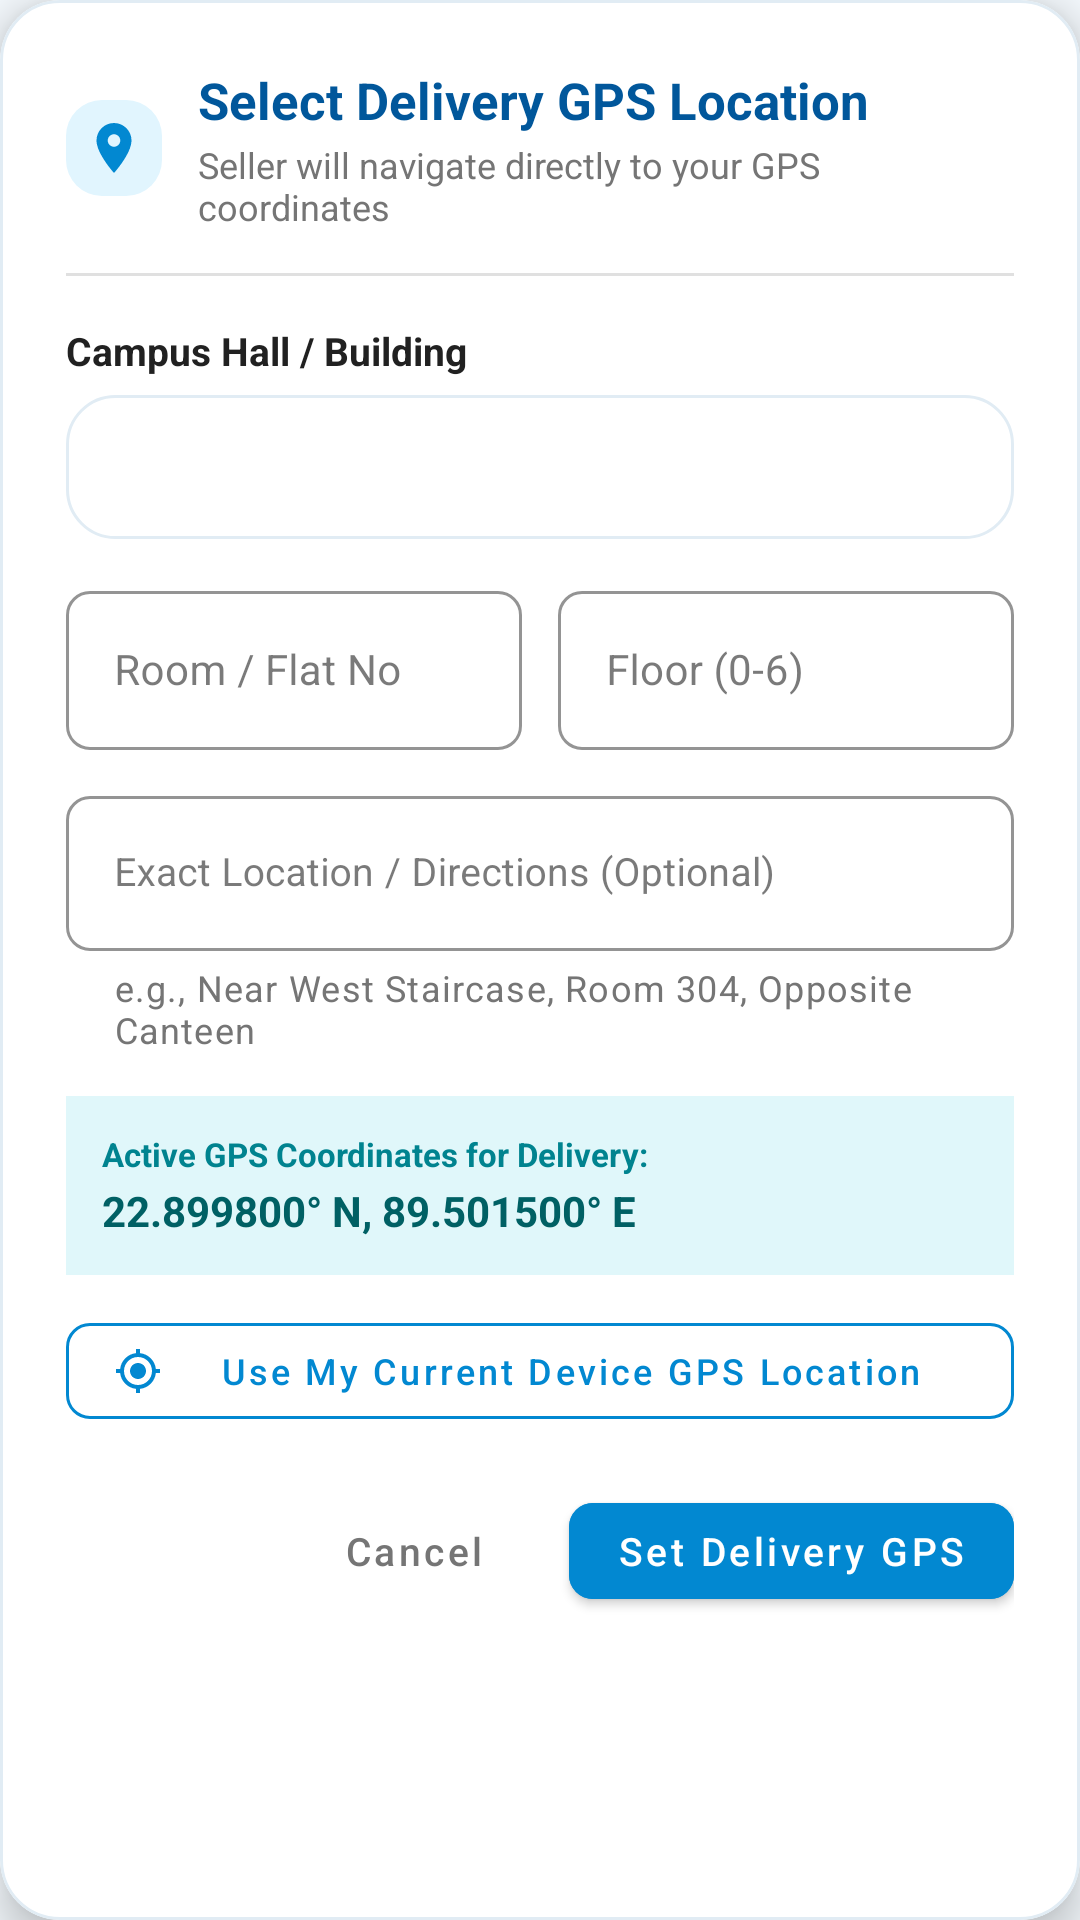

Where to tap for icons on this 1080 × 1920 app screen, as (x=x, y=y):
GPS Pin: (x=114, y=148)
